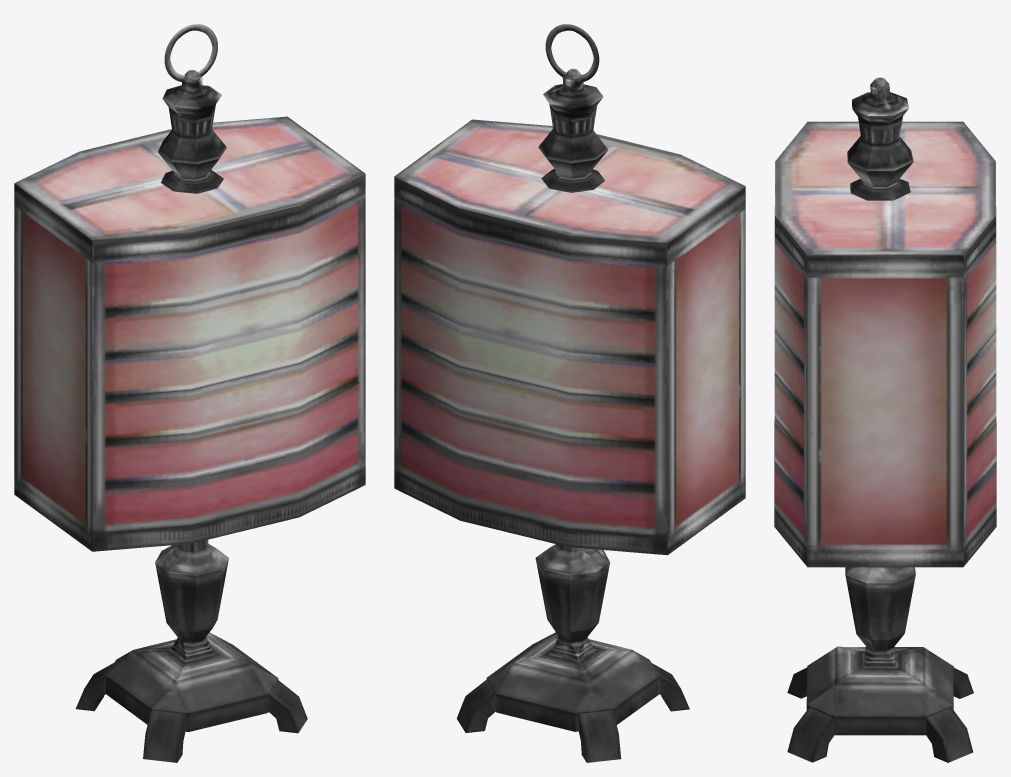
Rendered from furni_0201101_02.FBX.
3 renders of one model, left to right at view 1: azimuth 30°, elevation 25°; view 2: azimuth 150°, elevation 25°; view 3: azimuth 270°, elevation 25°, orthographic.
Parts seen in each view (by area): view 1: furni_0201101_02; view 2: furni_0201101_02; view 3: furni_0201101_02.
Boxes of the visible parts, x1,y1,x2,y2 form: furni_0201101_02: [14, 24, 365, 762]; furni_0201101_02: [394, 24, 745, 762]; furni_0201101_02: [774, 77, 996, 762].
Size of the model in its own units: 29.94 by 72.48 by 21.06.
1 material, 1 textured.
